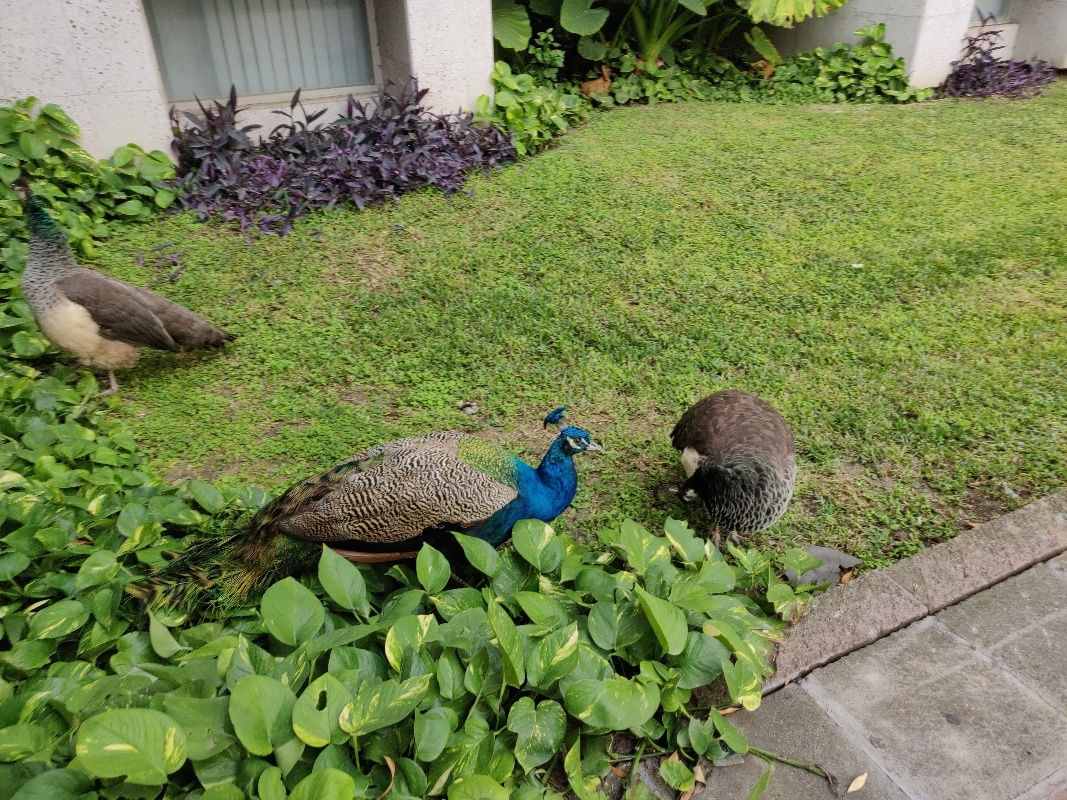pavoreal: (235, 402, 604, 566), (10, 177, 207, 388), (672, 387, 803, 538)
